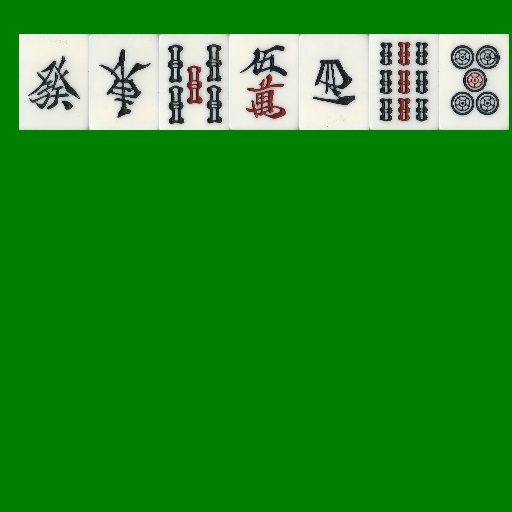5m: (229, 34, 299, 130)
5p: (439, 34, 509, 130)
5s: (159, 34, 229, 130)
9s: (369, 34, 439, 130)
east: (89, 34, 159, 130)
hatsu: (19, 34, 89, 130)
west: (299, 34, 369, 130)
